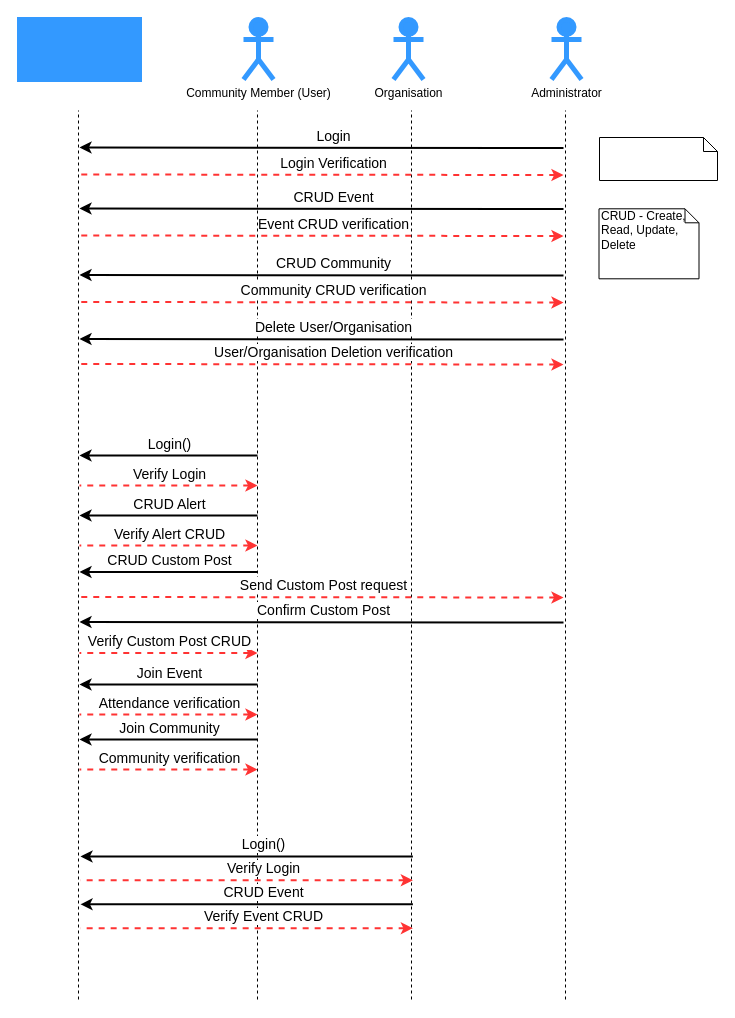
The diagram is 735 pixels wide and 1018 high, and some of its shapes have lost their labels. Here are the shapes that lost their labels. From the top down, the centre of each, then its label:
the point at 79,49: System
the point at 658,158: Same login for all users
